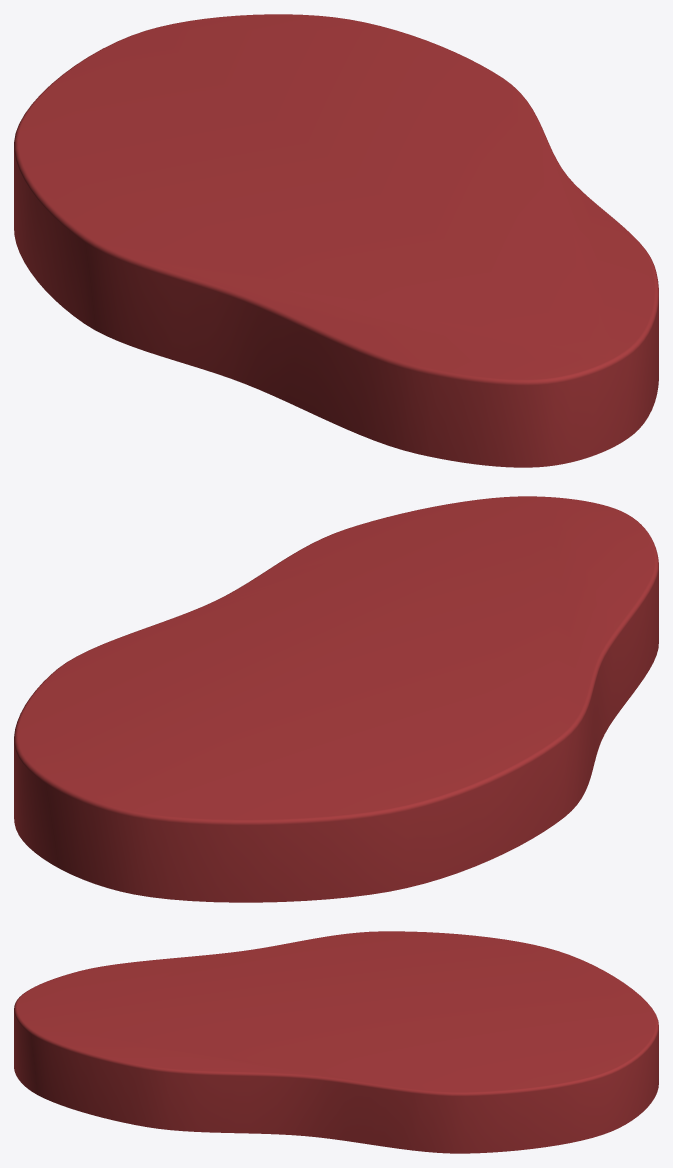
3 views of the same model, one above another, from view 1: azimuth 30°, elevation 25°; view 2: azimuth 150°, elevation 25°; view 3: azimuth 270°, elevation 25° (orthographic). The views are drawn at different scales.
Parts seen in each view (by area): view 1: slab; view 2: slab; view 3: slab.
Boxes of the visible parts, box(x1,y1,x2,y2) form: slab: box(14, 14, 658, 467); slab: box(14, 496, 658, 902); slab: box(14, 931, 658, 1153).
Size of the model in its own units: 0.074 by 0.0127 by 0.1236.
